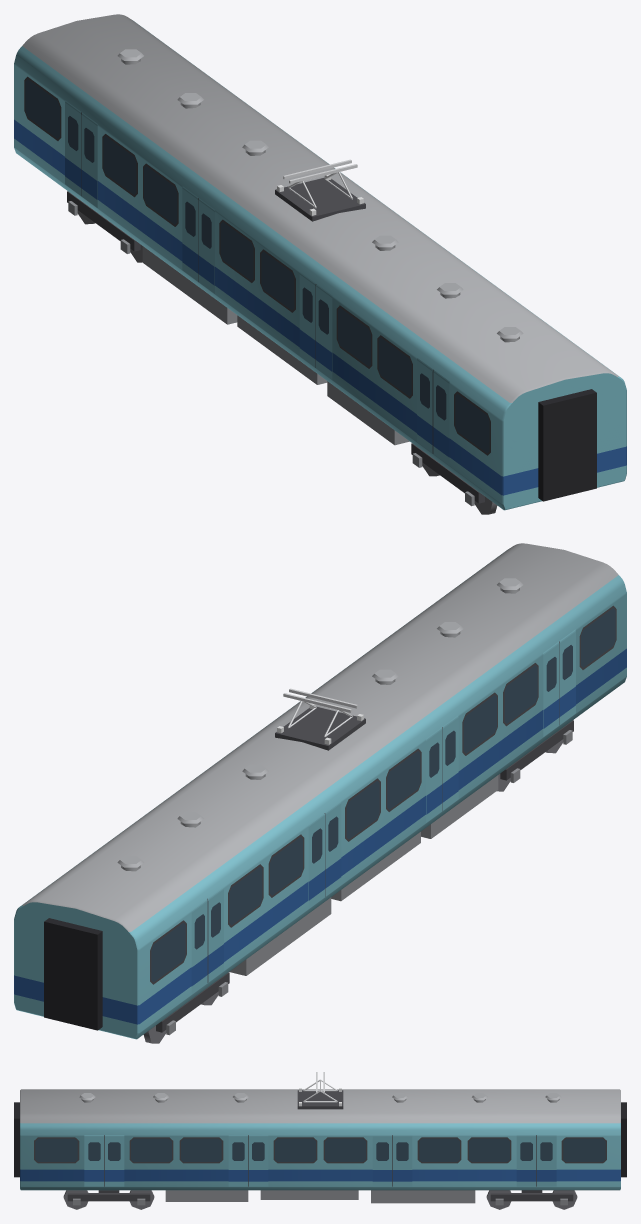
File: middle_3.fbx
3 views of the same model, one above another, from view 1: azimuth 30°, elevation 25°; view 2: azimuth 150°, elevation 25°; view 3: azimuth 270°, elevation 25° (orthographic). The views are drawn at different scales.
Parts seen in each view (by area): view 1: 20_middle_3; view 2: 20_middle_3; view 3: 20_middle_3.
Boxes of the visible parts, x1,y1,x2,y2 form: 20_middle_3: [14, 14, 626, 514]; 20_middle_3: [14, 543, 626, 1043]; 20_middle_3: [14, 1072, 626, 1209].
Size of the model in its own units: 2.93 by 4.2 by 20.
